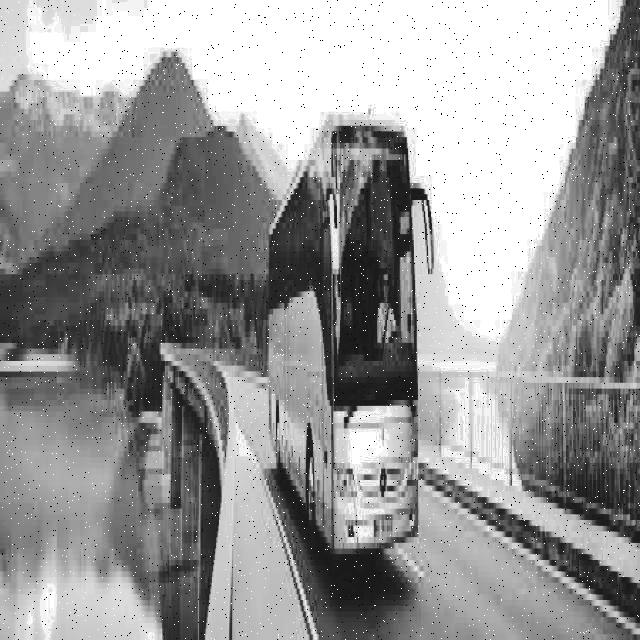Bus: (262, 50, 446, 612)
